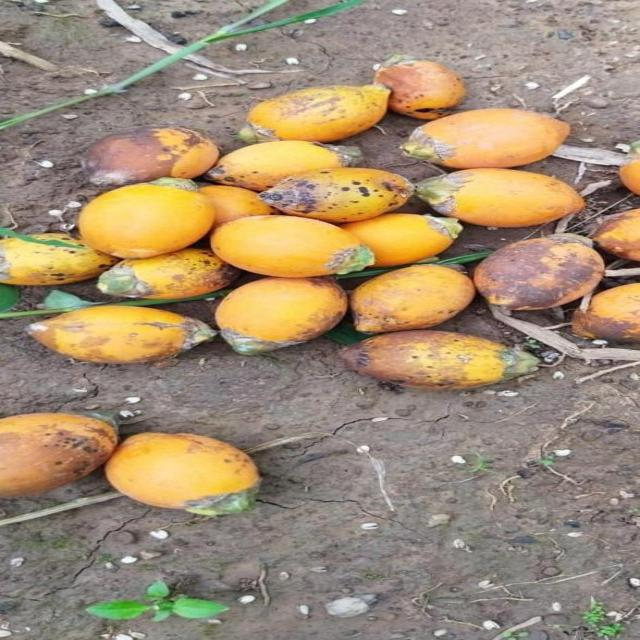good: (104, 432, 260, 520), (343, 330, 541, 392), (76, 182, 218, 261), (0, 413, 118, 500), (214, 279, 347, 356), (411, 109, 573, 172), (475, 236, 605, 314), (28, 306, 196, 366), (93, 242, 245, 307), (439, 168, 587, 232), (211, 216, 358, 280), (257, 167, 418, 224), (352, 263, 473, 337), (247, 85, 390, 143), (87, 127, 222, 188), (335, 212, 463, 270), (202, 140, 344, 192), (0, 232, 112, 290)
